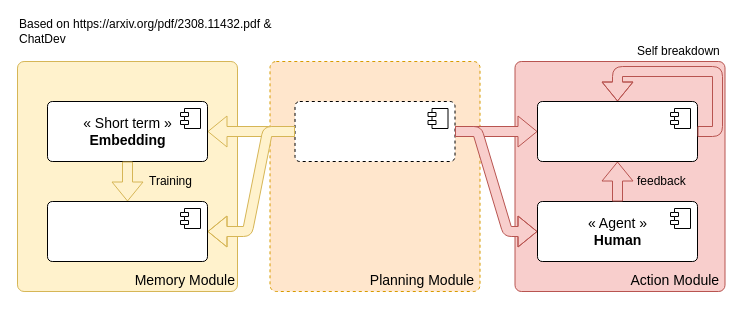
This 743x309 diagram has some shape labels left out. The shapes that lost their labels are listed below. From the top down, each one's centre as x and y in pixels, then its label:
At [374,131]: "« Orchestration » Agent-OS".
At [617,131]: "« Agent » Profile + LLM".
At [127,231]: "« Long term » Fine tuning".
